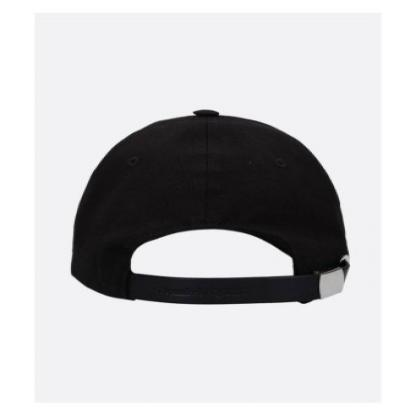cap: (55, 102, 362, 309)
